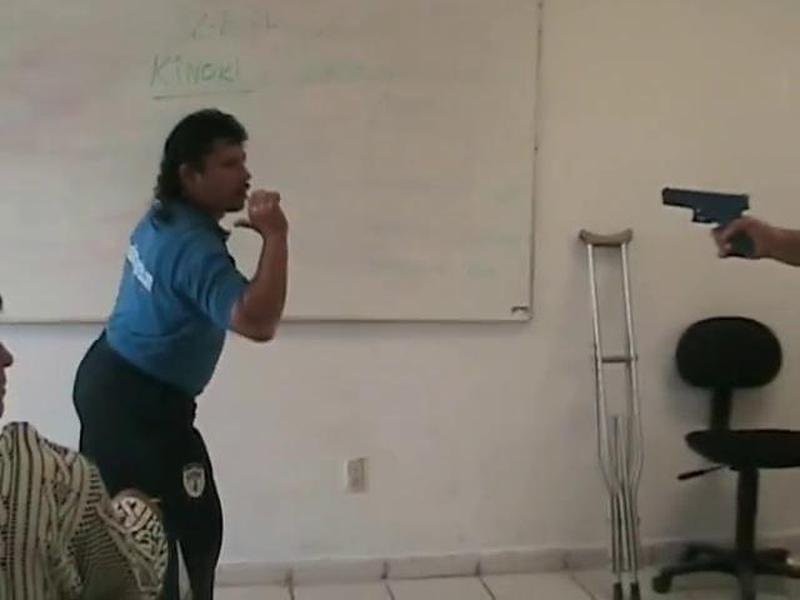Pistola: (657, 180, 753, 248)
